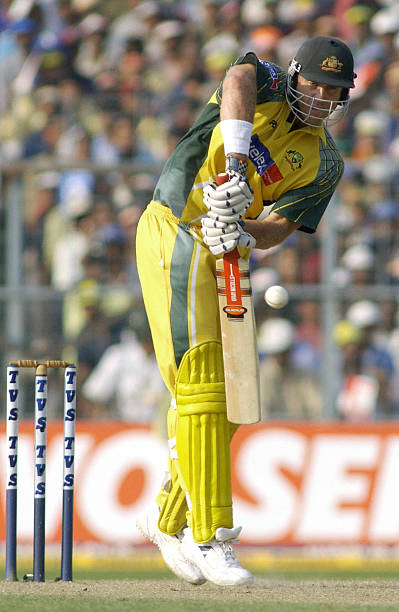bottom left: (219, 404, 246, 431)
bottom right: (254, 407, 270, 432)
top left: (209, 250, 231, 274)
top right: (235, 251, 262, 272)
